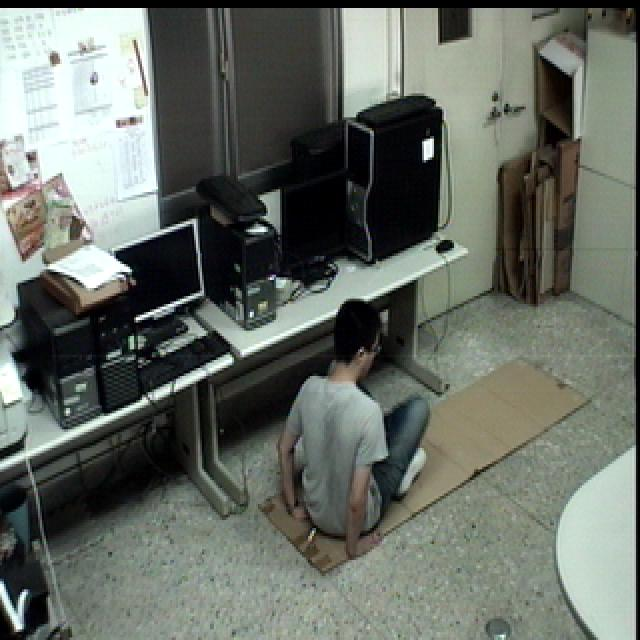sit: (265, 298, 433, 568)
